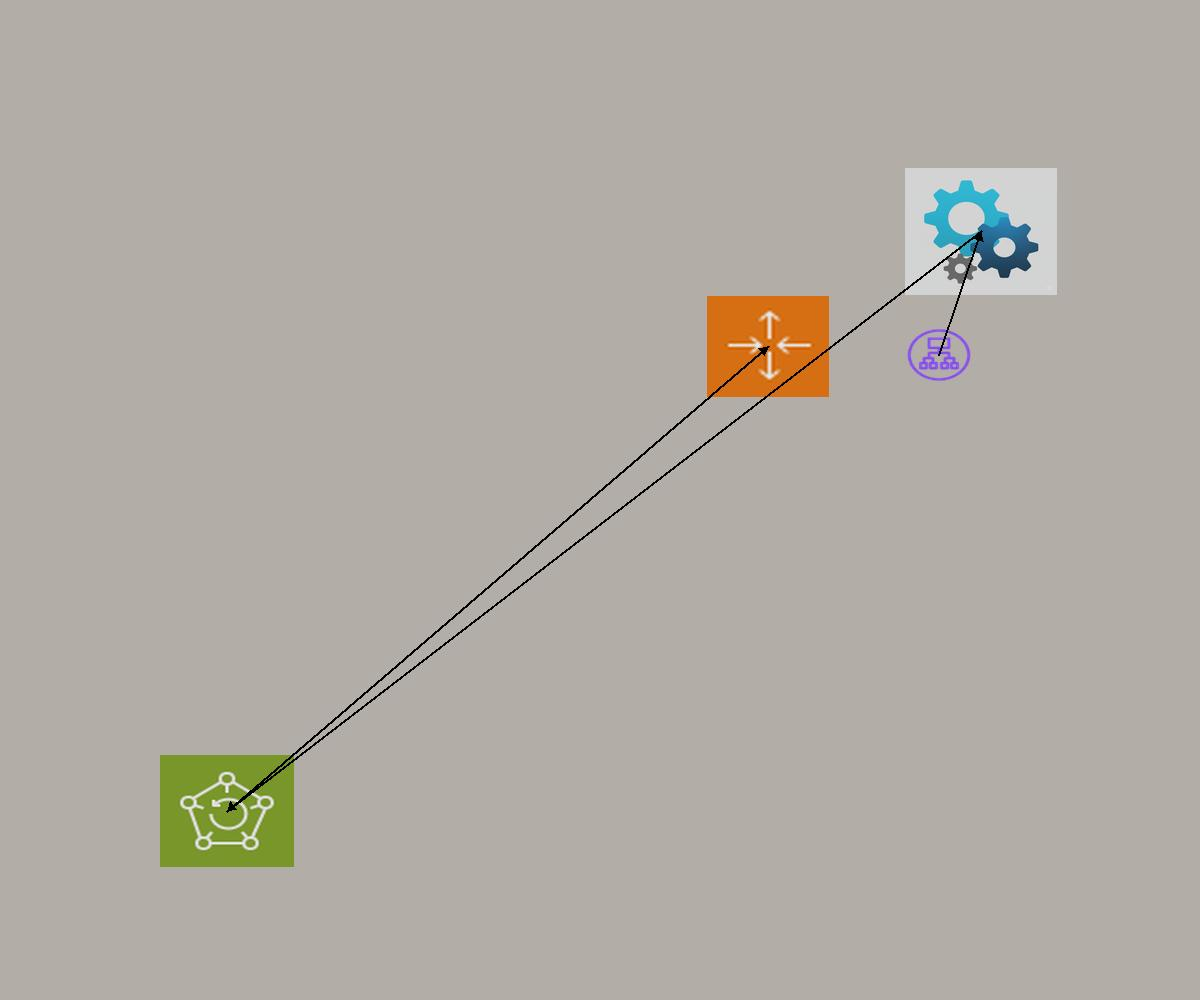AWS-Backup: (160, 755, 294, 867)
AWS-Res_Elastic-Load-Balancing_Application-Load-Balancer: (905, 327, 973, 383)
AWS-Scaling-group: (707, 296, 829, 397)
Azure_api: (905, 168, 1057, 295)
